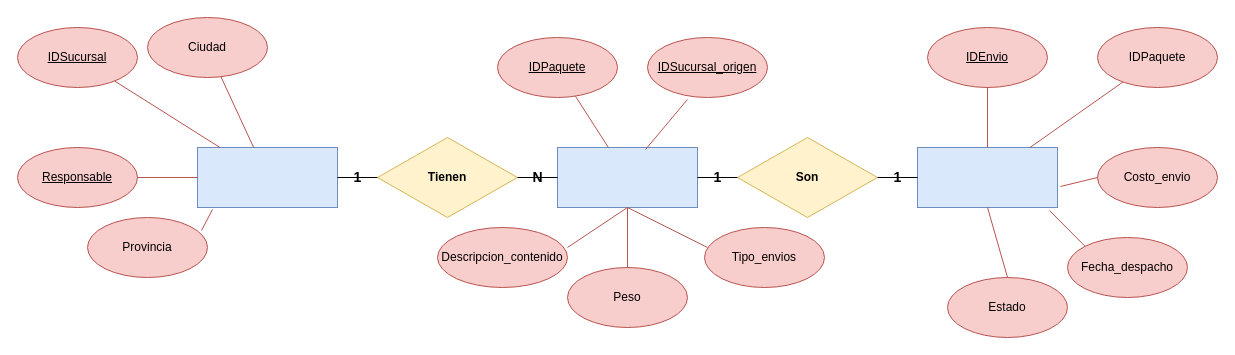
Image size: 1235x355. Some labels were removed from this diagram. The centre of each missing label's shape, as x and y in pixels:
Envios: the point at 987,177
Paquetes: the point at 627,177
Sucursales: the point at 267,177
